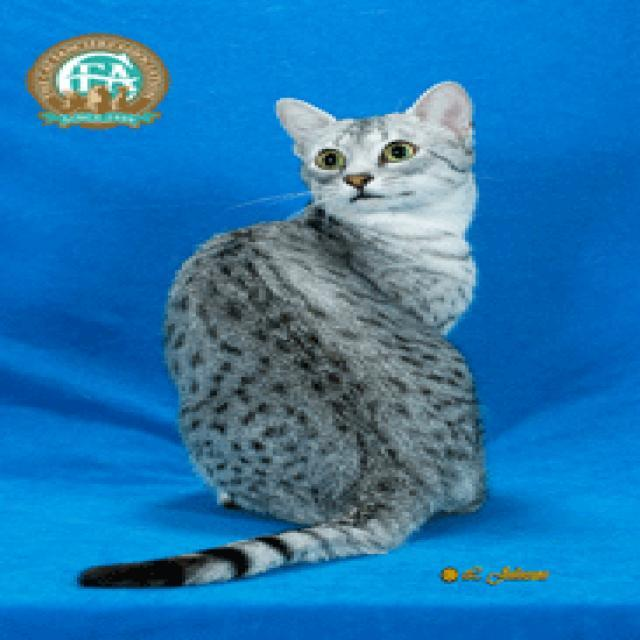Egyptian_Mau: (266, 78, 488, 240)
